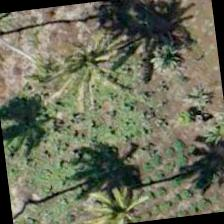Kelapa_Sawit: (73, 130, 175, 223), (5, 157, 62, 223)
